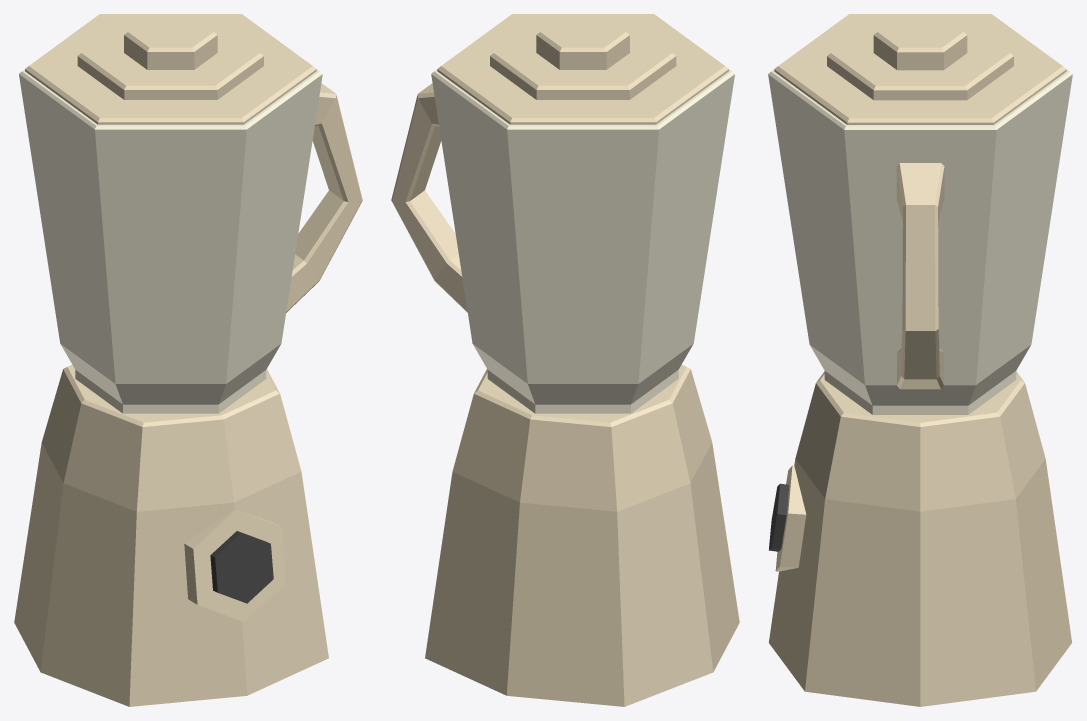
The model's file is Blender.glb.
3 renders of one model, left to right at view 1: azimuth 30°, elevation 25°; view 2: azimuth 150°, elevation 25°; view 3: azimuth 270°, elevation 25°, orthographic.
Visible parts, largest first — view 1: Pitcher1Blender1, Blender1, Stayputlid1Blender1, Button1Blender1; view 2: Blender1, Pitcher1Blender1, Stayputlid1Blender1; view 3: Blender1, Pitcher1Blender1, Stayputlid1Blender1, Button1Blender1.
Boxes of the visible parts, x1,y1,x2,y2 form: Pitcher1Blender1: (19, 69, 362, 413); Blender1: (14, 364, 328, 706); Stayputlid1Blender1: (25, 14, 316, 124); Button1Blender1: (210, 531, 273, 603); Blender1: (425, 364, 739, 706); Pitcher1Blender1: (391, 69, 734, 413); Stayputlid1Blender1: (437, 14, 728, 124); Blender1: (768, 371, 1072, 706); Pitcher1Blender1: (768, 69, 1072, 414); Stayputlid1Blender1: (774, 14, 1066, 124); Button1Blender1: (768, 483, 789, 551).
Bounding box in the file's own units: 0.3561 × 0.6581 × 0.2979.
